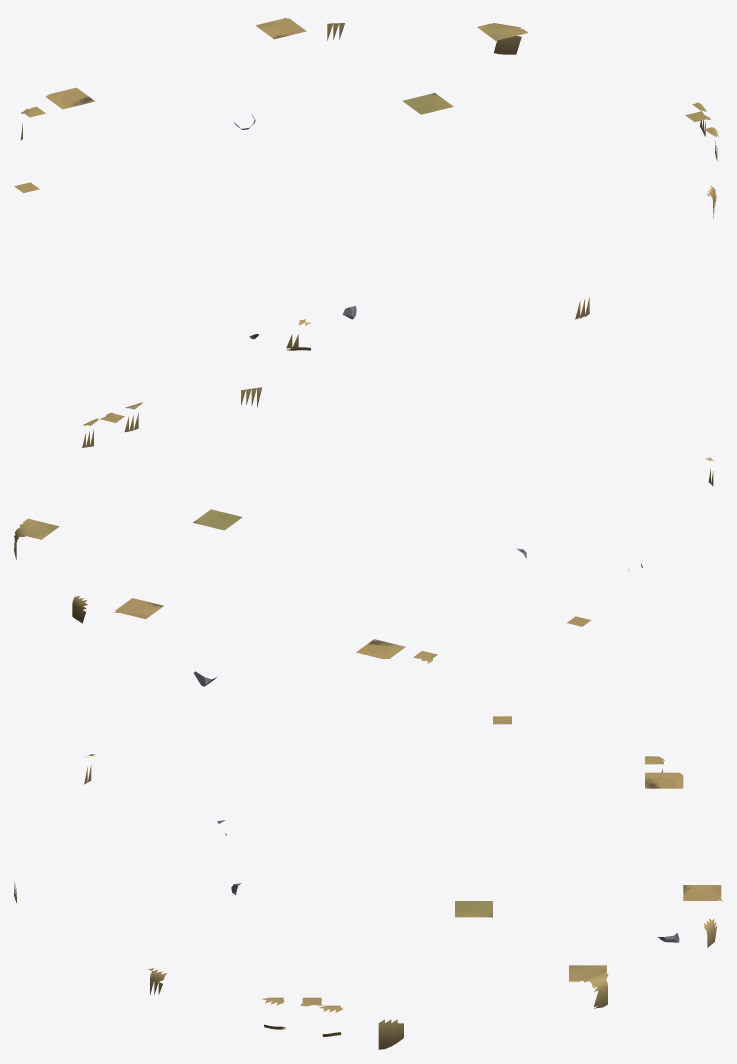
3 renders of one model, top to bottom at view 1: azimuth 30°, elevation 25°; view 2: azimuth 150°, elevation 25°; view 3: azimuth 270°, elevation 25°, orthographic. The views are drawn at different scales.
Parts seen in each view (by area): view 1: Grass_3_2_0_110, Grass_1_1_0_100, Grass_1_4_0_000, Grass_-3_3_0_110; view 2: Grass_3_2_0_110, Grass_1_1_0_100, Grass_1_4_0_000, Grass_-3_3_0_110; view 3: Grass_3_2_0_110, Grass_-3_3_0_110, Grass_1_1_0_100, Grass_5_0_0, Grass_1_4_0_000.
Part boxes in pixels (x1,y1,x2,y2): Grass_3_2_0_110: (477, 23, 528, 54); Grass_1_1_0_100: (402, 93, 453, 114); Grass_1_4_0_000: (255, 18, 306, 39); Grass_-3_3_0_110: (46, 87, 95, 109); Grass_3_2_0_110: (14, 518, 59, 559); Grass_1_1_0_100: (193, 509, 242, 530); Grass_1_4_0_000: (114, 598, 163, 619); Grass_-3_3_0_110: (356, 639, 405, 658); Grass_3_2_0_110: (569, 965, 608, 1008); Grass_-3_3_0_110: (645, 772, 683, 788); Grass_1_1_0_100: (455, 901, 492, 917); Grass_5_0_0: (378, 1019, 403, 1049); Grass_1_4_0_000: (683, 885, 722, 901).
Bounding box in the file's own units: 592 × 75.58 × 596.
Materials: 17 (17 with a texture image).
